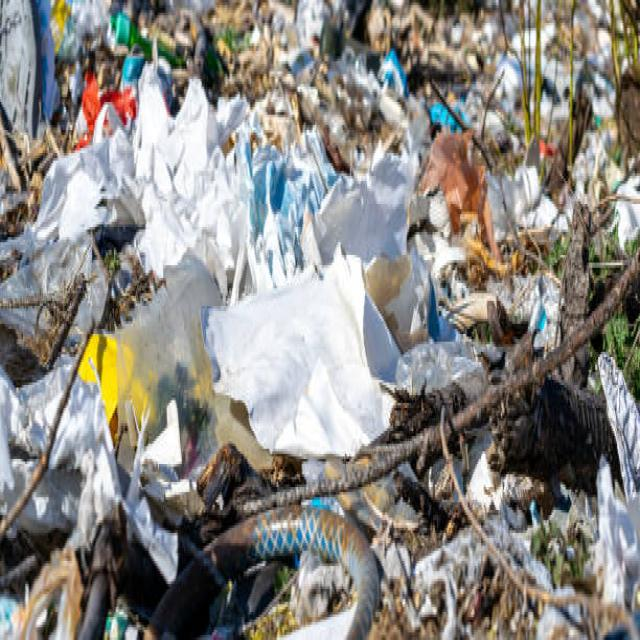paper: (47, 54, 381, 252), (202, 278, 411, 444)
